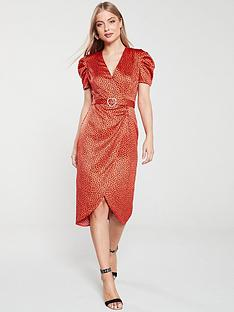C_dress: (62, 48, 151, 220)
